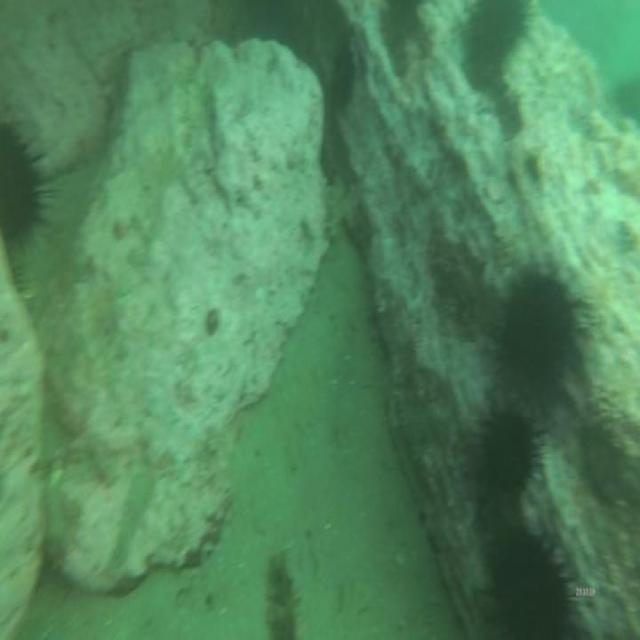echinus: (486, 245, 601, 419), (455, 504, 603, 635), (459, 386, 553, 518), (0, 104, 60, 270), (452, 0, 546, 100)
